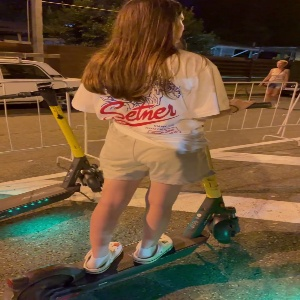human on a scooter: (4, 1, 273, 300)
